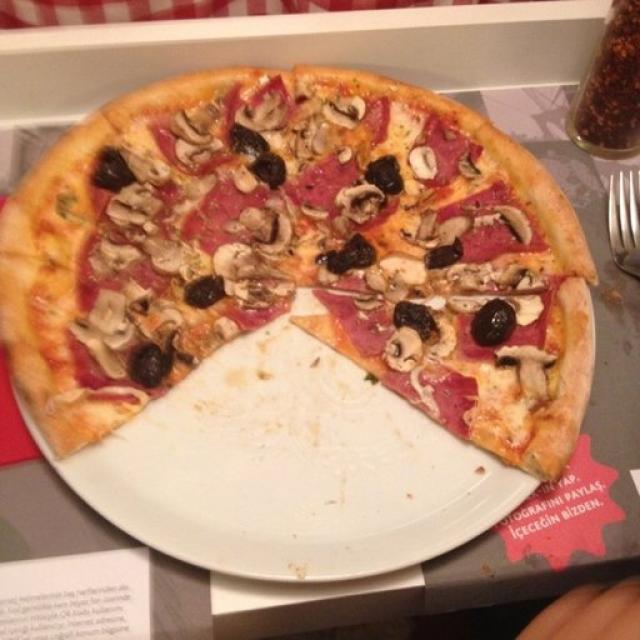Mushrooms: (105, 182, 202, 278), (70, 288, 145, 381), (212, 242, 290, 309), (168, 105, 231, 174), (496, 346, 555, 406), (226, 202, 292, 246), (404, 214, 472, 250), (88, 235, 145, 276), (235, 90, 290, 132), (384, 326, 426, 378), (335, 184, 386, 224), (491, 206, 532, 246), (320, 100, 365, 128), (409, 146, 438, 184)
Olives: (232, 129, 285, 189), (325, 234, 374, 276), (94, 148, 138, 194), (472, 299, 516, 345), (128, 349, 172, 391), (394, 301, 439, 341), (185, 278, 225, 310), (365, 160, 398, 192), (426, 249, 464, 270)
Pizza: (0, 66, 595, 482)
